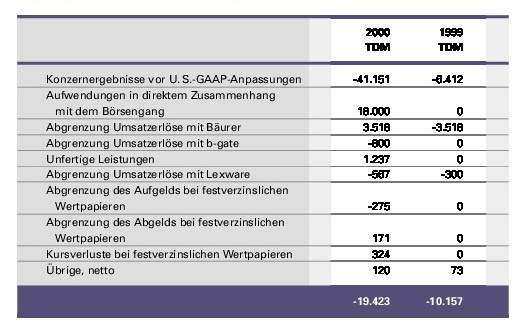table: (0, 0, 521, 326)
